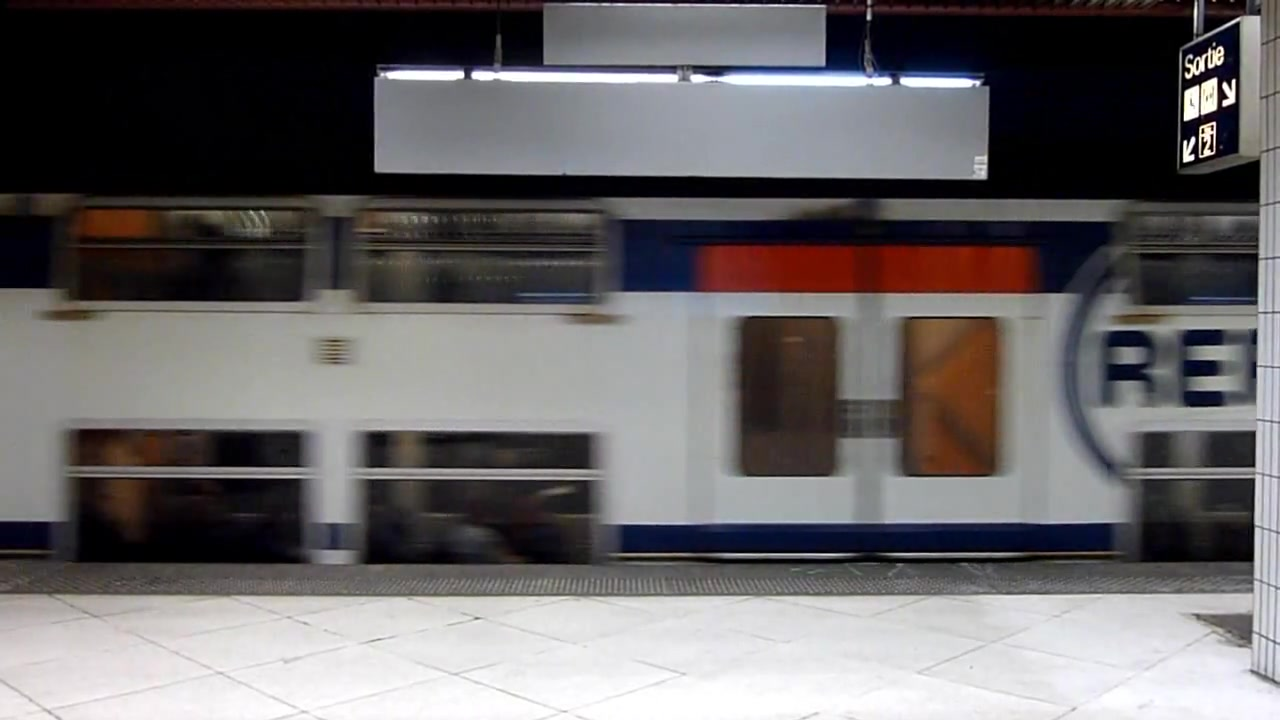train: (2, 171, 1260, 571)
